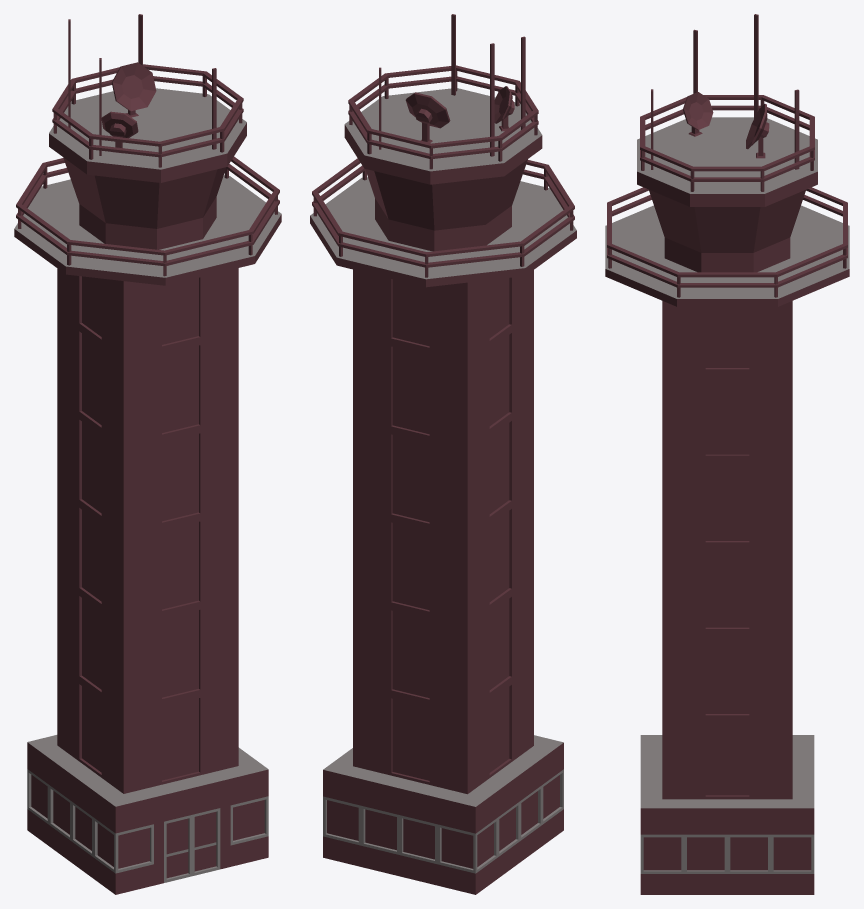
Rendered from airport-control-tower.fbx.
3 views of the same model, side by side, from view 1: azimuth 30°, elevation 25°; view 2: azimuth 150°, elevation 25°; view 3: azimuth 270°, elevation 25° (orthographic).
Parts seen in each view (by area): view 1: airport-control-tower; view 2: airport-control-tower; view 3: airport-control-tower.
Part boxes in pixels (x1=…): airport-control-tower: x1=14, y1=14, x2=281, y2=894; airport-control-tower: x1=310, y1=14, x2=576, y2=894; airport-control-tower: x1=605, y1=14, x2=849, y2=894.
Bounding box in the file's own units: 8.45 × 31 × 8.45.
